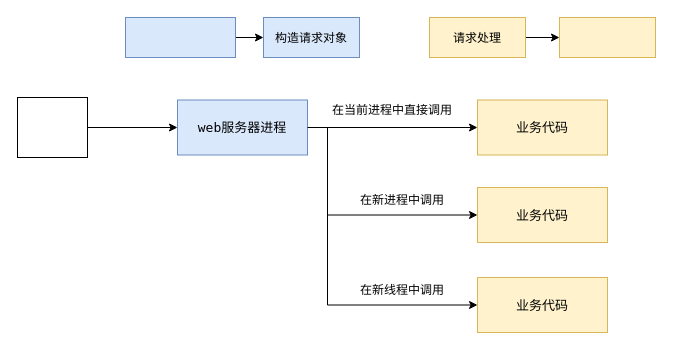
This 673x350 diagram has some shape labels left out. The shapes that lost their labels are listed below. From the top down, each one's centre as x and y in pixels, then its label:
At point 180,37: "HTTP协议解析".
At point 607,37: "生成动态内容".
At point 52,127: "请求".
